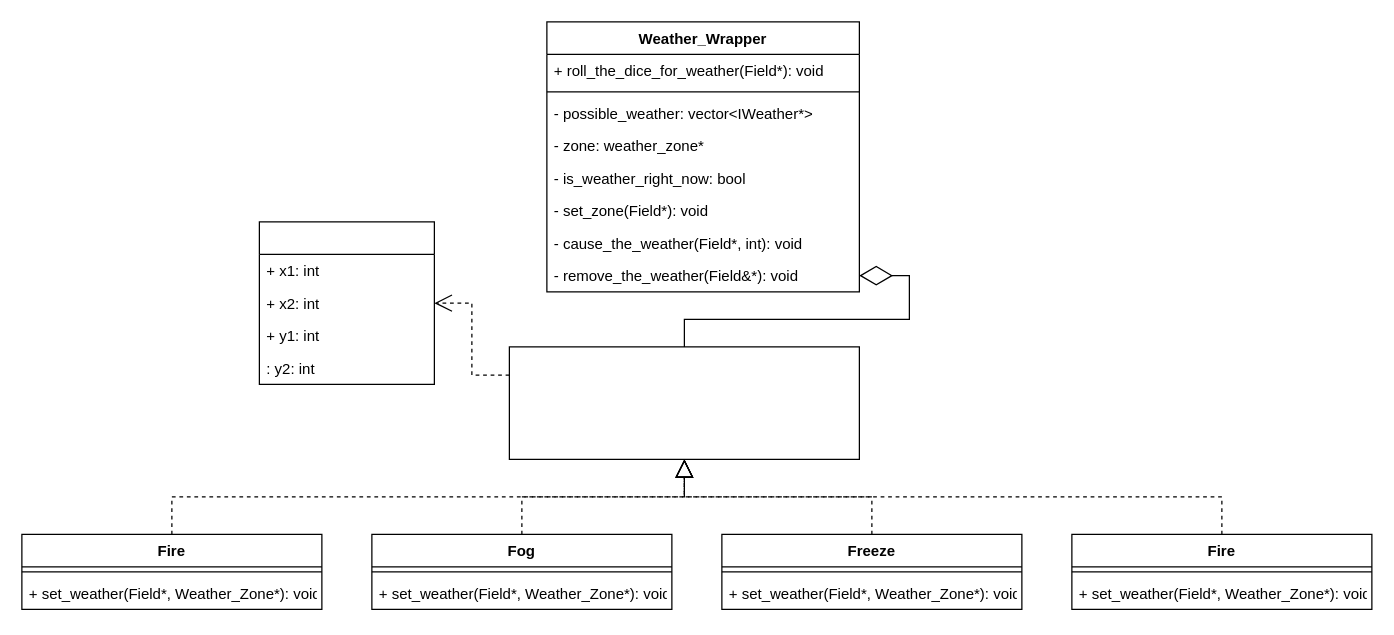
Some shapes in this 1394 by 635 pixel diagram are drawn without their labels. Each missing label, with the box of its shape:
<<Interface>> IWeather + set_weather(Field*, Weather_Zone*): void: (508, 346, 859, 459)
Weather_Zone: (258, 221, 434, 384)
